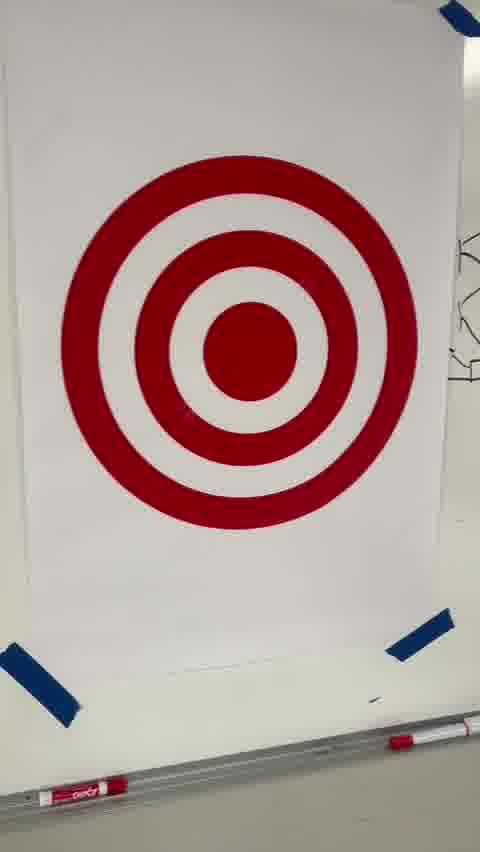target_red: (61, 155, 419, 531)
